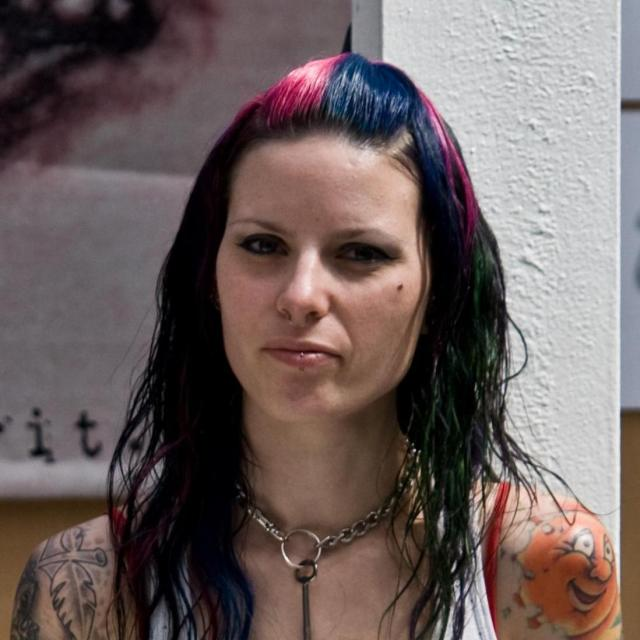no-glass: (223, 240, 396, 278)
